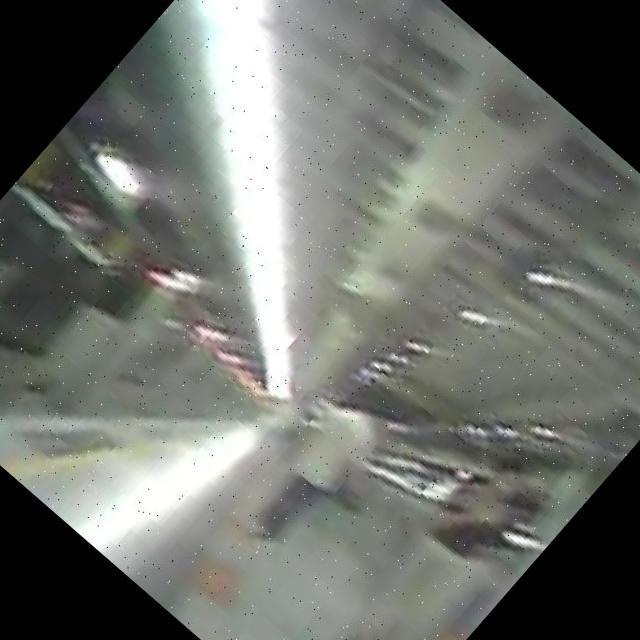person: (307, 443, 561, 640), (231, 378, 402, 561)
